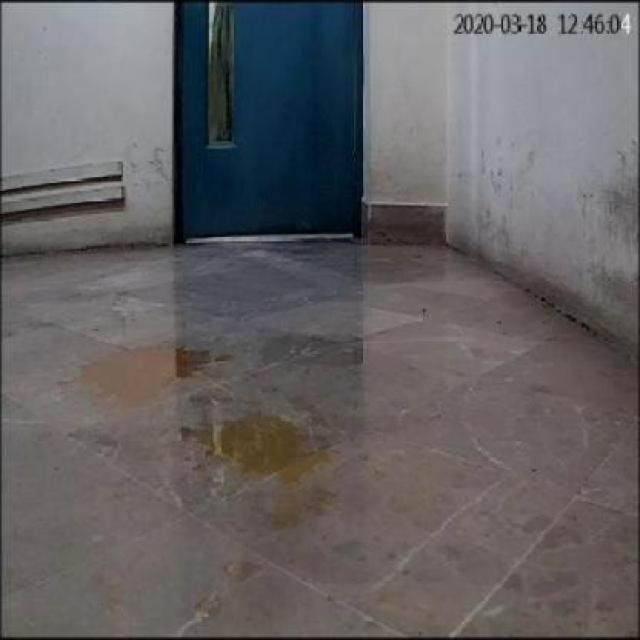spillage: (178, 410, 345, 492), (64, 341, 222, 406)
